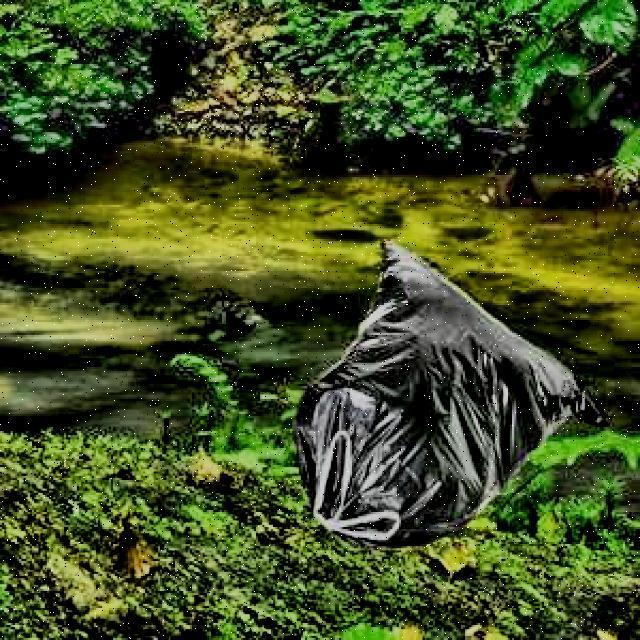Trashbag: (285, 232, 600, 556)
